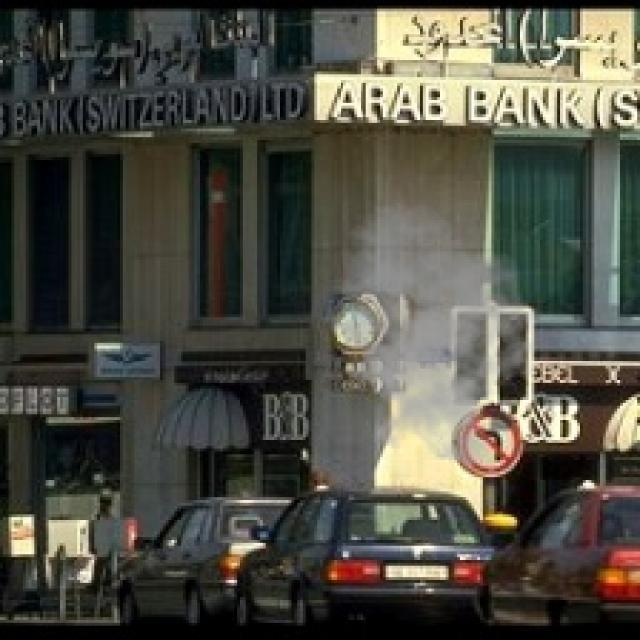Smoke: (311, 200, 546, 469)
